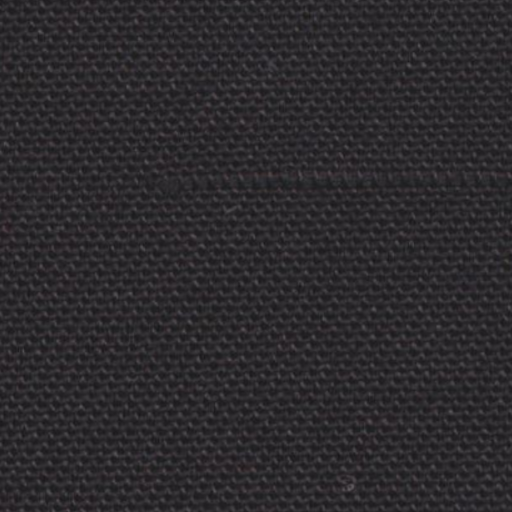DaiSha: (162, 152, 484, 202)
